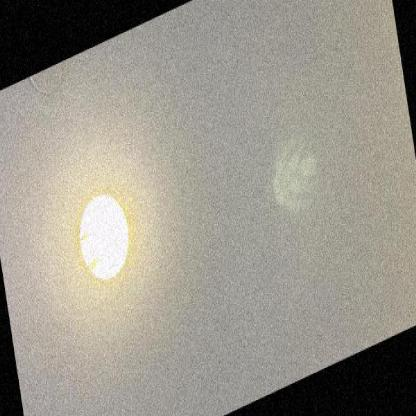light_on: (62, 164, 148, 310)
